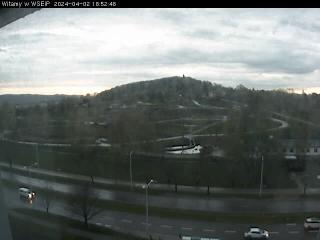car: (242, 227, 272, 240), (18, 186, 36, 200), (304, 217, 320, 231)
